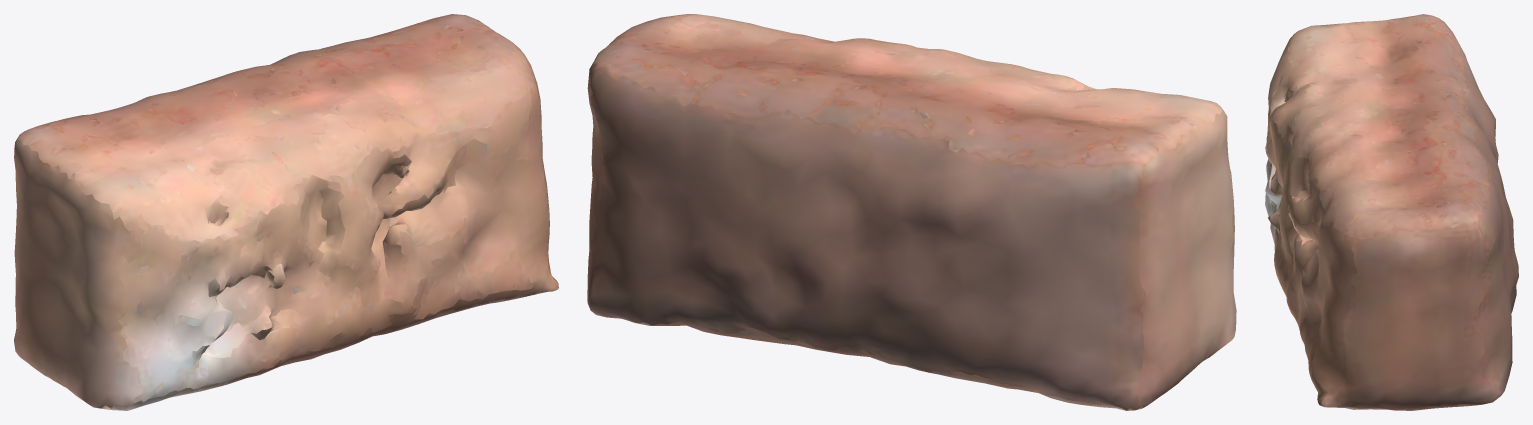
The model's file is 3_chair.glb.
3 renders of one model, left to right at view 1: azimuth 30°, elevation 25°; view 2: azimuth 150°, elevation 25°; view 3: azimuth 270°, elevation 25°, orthographic. The views are drawn at different scales.
Visible parts, largest first — view 1: 3_chair; view 2: 3_chair; view 3: 3_chair.
Part boxes in pixels (left/top/right/bottom): 3_chair: left=14, top=14, right=558, bottom=410; 3_chair: left=587, top=14, right=1236, bottom=410; 3_chair: left=1265, top=14, right=1518, bottom=410.
Size of the model in its own units: 0.4581 by 0.2067 by 0.2315.
1 material, 1 textured.
